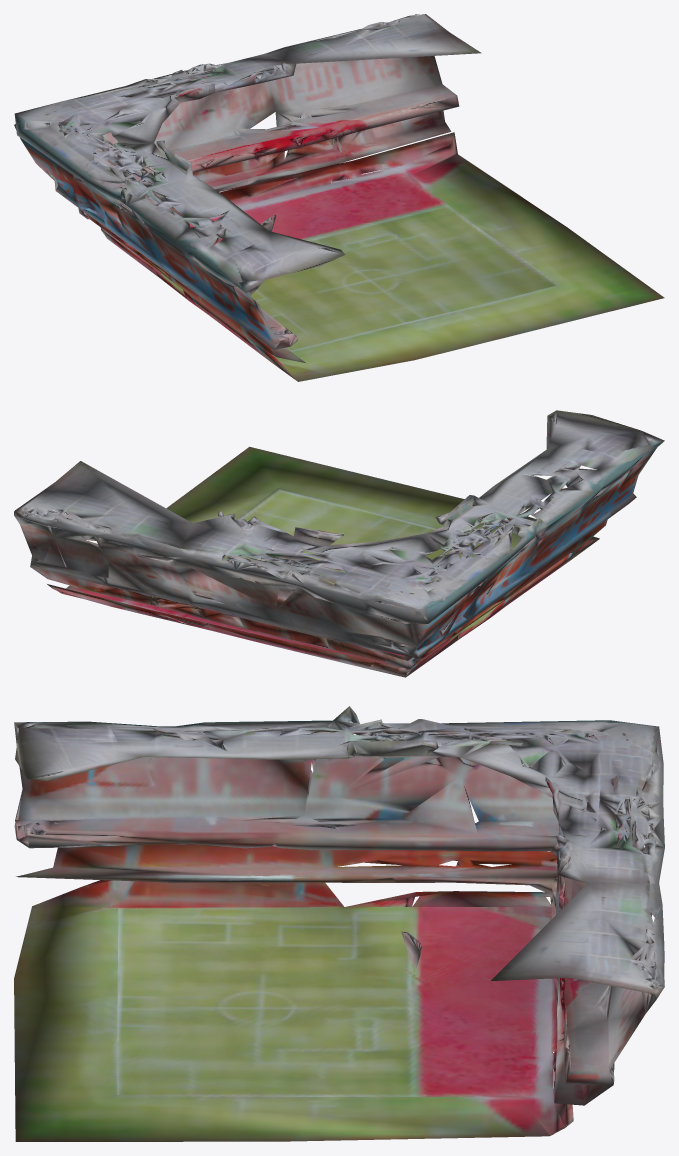
Rendered from Meshy_AI_Stadium_Soccer_stad_0323202143_stylize.glb.
3 renders of one model, top to bottom at view 1: azimuth 30°, elevation 25°; view 2: azimuth 150°, elevation 25°; view 3: azimuth 270°, elevation 25°, orthographic. The views are drawn at different scales.
Visible parts, largest first — view 1: file1; view 2: file1; view 3: file1.
Boxes of the visible parts, bbox=[...] form: file1: bbox=[14, 14, 664, 381]; file1: bbox=[14, 410, 664, 677]; file1: bbox=[14, 706, 664, 1141].
Size of the model in its own units: 2.01 by 0.5972 by 2.
Materials: 1 (1 with a texture image).
